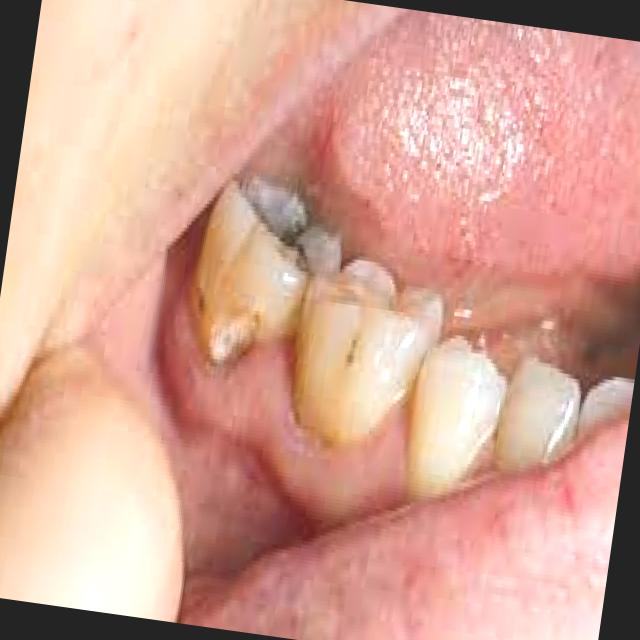caries: (202, 166, 330, 373)
